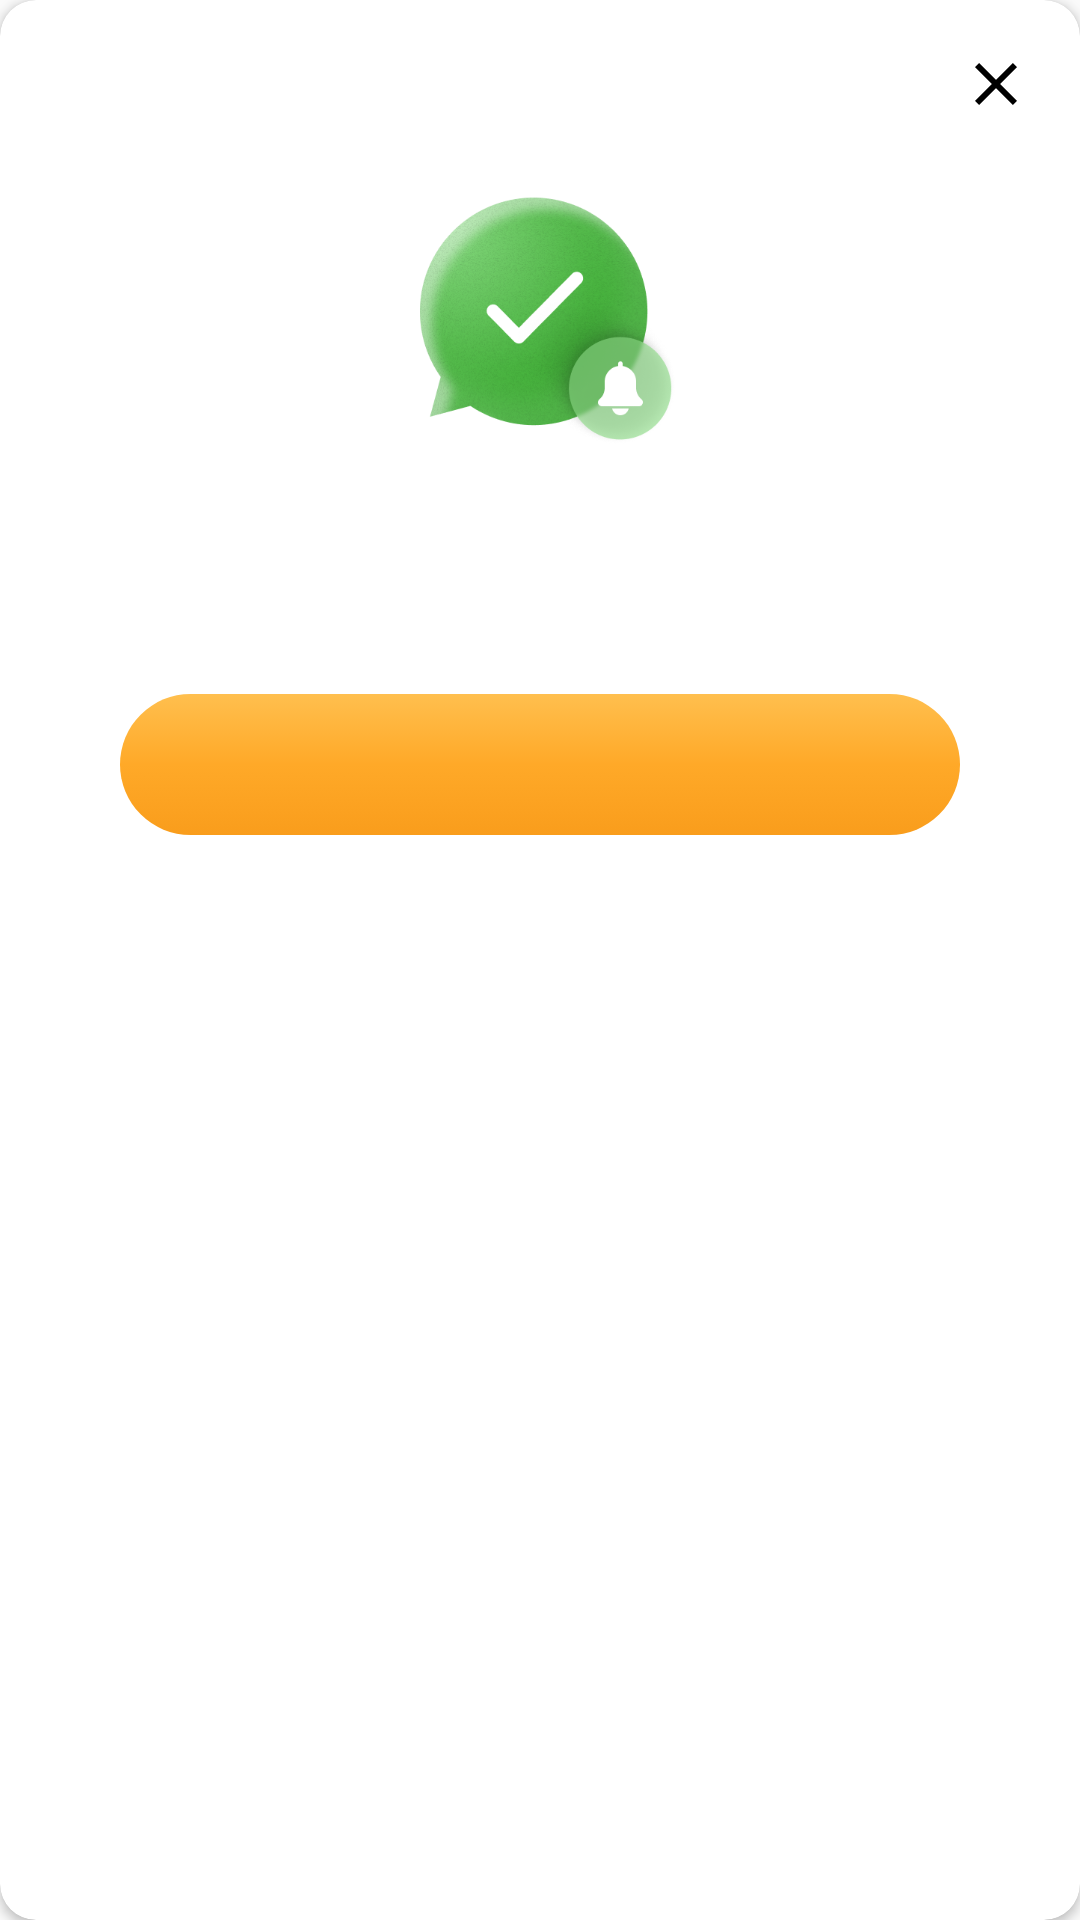

Where to tap for icons on this 1080*1920 app screen, as [x,y]:
close: [996,84]
success: [545,318]
